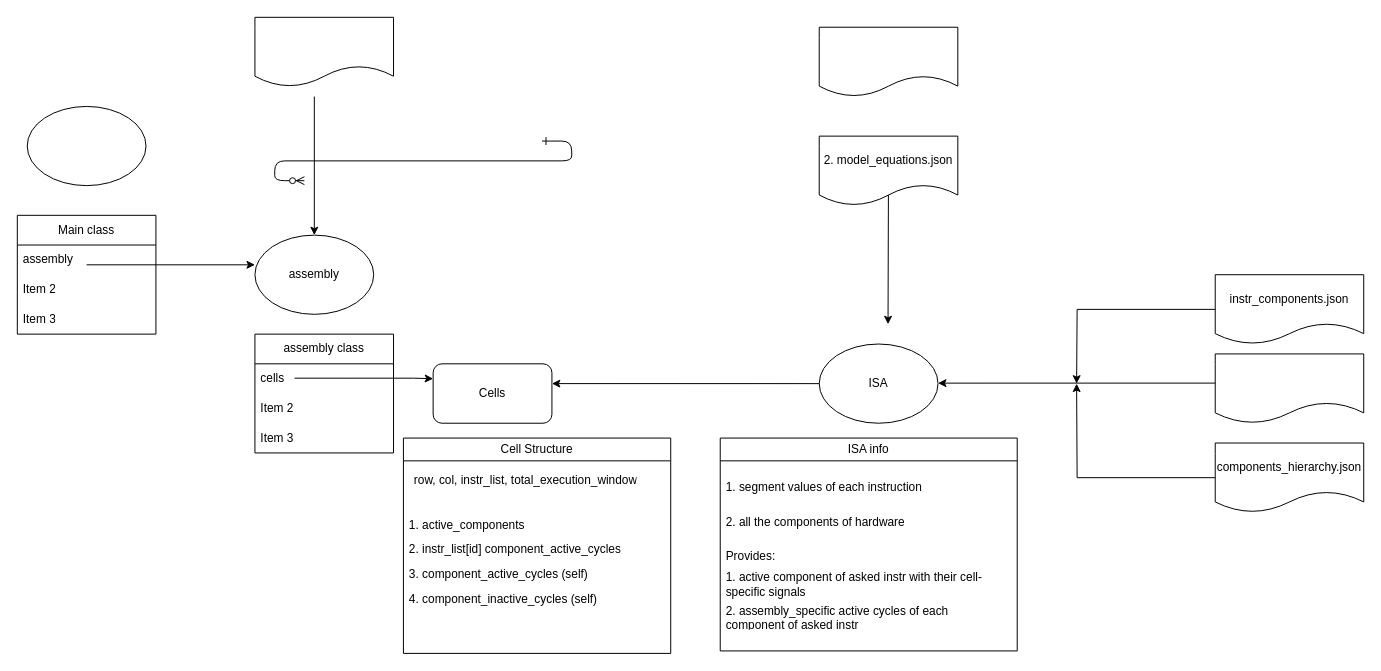
The diagram is 1381 pixels wide and 671 high, and some of its shapes have lost their labels. Here are the shapes that lost their labels. From the top down, the centre of each, then its label:
the point at 324,51: assembly.json
the point at 888,61: 1. instr_components.json
the point at 86,145: Main
the point at 1289,388: instr_segment_values.json
